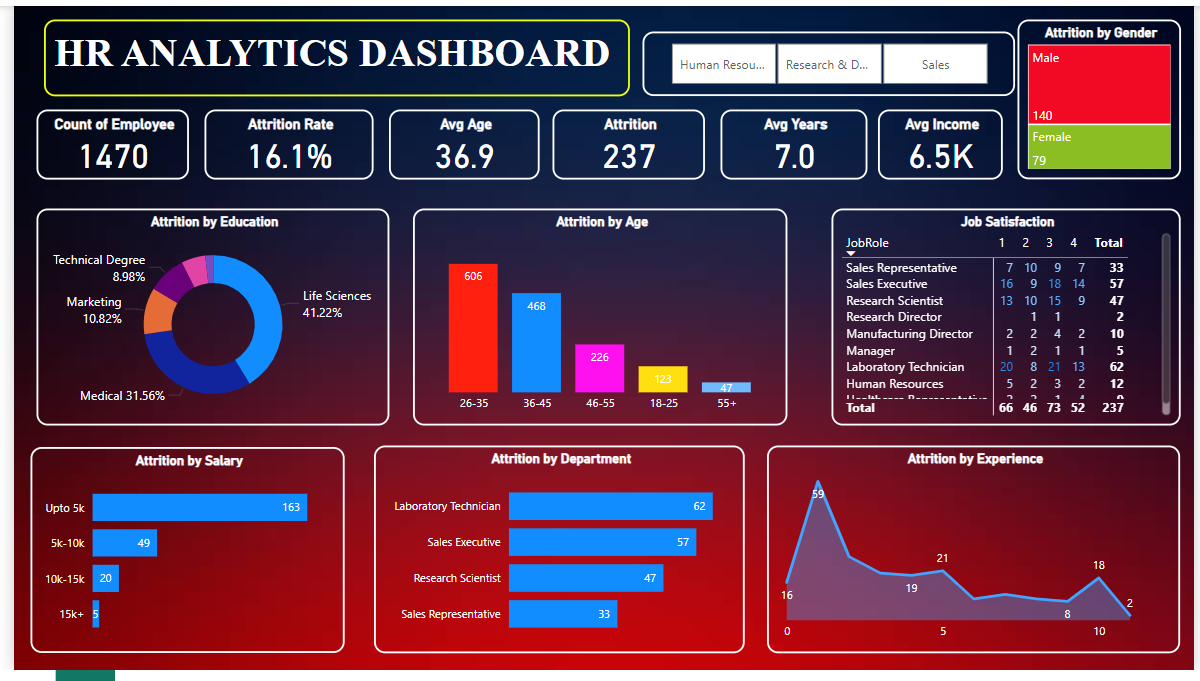

Layout of this report page (visuals, bound fields, positions):
{"tool":"powerbi","page":{"name":"Page 1","canvas":[1280,720],"ordinal":0},"visuals":[{"type":"card","title":"Attrition Rate","fields":{"Values":["HR_Analytics.Measure"]},"box":[207.1,111.5,183.2,75.7],"z":0},{"type":"card","title":"Count of Employee","fields":{"Values":["CountNonNull(HR_Analytics.EmpID)"]},"box":[23.9,111.5,165.3,75.7],"z":1000},{"type":"card","title":"Attrition","fields":{"Values":["CountNonNull(HR_Analytics.Attrision)"]},"box":[583.6,111.5,165.3,75.7],"z":2000},{"type":"card","title":"Avg Age","fields":{"Values":["Avg(HR_Analytics.Age)"]},"box":[406.3,111.5,163.3,75.7],"z":3000},{"type":"card","title":"Avg Years","fields":{"Values":["Avg(HR_Analytics.YearsAtCompany)"]},"box":[766.8,111.5,159.3,75.7],"z":4000},{"type":"card","title":"Avg Income","fields":{"Values":["Avg(HR_Analytics.MonthlyIncome)"]},"box":[936.1,111.5,135.4,75.7],"z":5000},{"type":"donutChart","title":"Attrition by Education","fields":{"Y":["CountNonNull(HR_Analytics.Attrition)"],"Category":["HR_Analytics.EducationField"]},"box":[23.9,219.1,382.4,235],"z":6000},{"type":"columnChart","title":"Attrition by Age","fields":{"Category":["HR_Analytics.AgeGroup"],"Y":["CountNonNull(HR_Analytics.Attrition)"]},"box":[432.2,219.1,406.3,235],"z":7000},{"type":"pivotTable","title":"Job Satisfaction","fields":{"Rows":["HR_Analytics.JobRole"],"Columns":["HR_Analytics.JobSatisfaction"],"Values":["Sum(HR_Analytics.Attrision)"]},"box":[886.3,219.1,378.4,235],"z":8000},{"type":"barChart","title":"Attrition by Salary","fields":{"Category":["HR_Analytics.SalarySlab"],"Y":["Sum(HR_Analytics.Attrision)"]},"box":[17.9,478,340.6,223.1],"z":9000},{"type":"barChart","title":"Attrition by Department","fields":{"Y":["Sum(HR_Analytics.Attrision)"],"Category":["HR_Analytics.JobRole"]},"box":[390.4,476,402.3,225.1],"z":10000},{"type":"areaChart","title":"Attrition by Experience","fields":{"Category":["HR_Analytics.YearsAtCompany"],"Y":["Sum(HR_Analytics.Attrision)"]},"box":[816.6,476,448.1,225.1],"z":11000},{"type":"treemap","title":"Attrition by Gender","fields":{"Group":["HR_Analytics.Gender"],"Values":["Sum(HR_Analytics.Attrision)"]},"box":[1087.5,13.9,177.3,173.3],"z":12000},{"type":"slicer","fields":{"Values":["HR_Analytics.Department"]},"box":[681.2,27.9,404.3,69.7],"z":13000},{"type":"textbox","box":[31.9,13.9,635.4,83.7],"z":14000}]}

Visuals, with their boxes in screenshot pixels (x1, y1, x2, y2), scaled from the page's 1280x720 canvas onto the 1200x681 screenshot:
"Attrition Rate" card: detection(194, 105, 366, 177)
"Count of Employee" card: detection(22, 105, 177, 177)
"Attrition" card: detection(547, 105, 702, 177)
"Avg Age" card: detection(381, 105, 534, 177)
"Avg Years" card: detection(719, 105, 868, 177)
"Avg Income" card: detection(878, 105, 1005, 177)
"Attrition by Education" donutChart: detection(22, 207, 381, 430)
"Attrition by Age" columnChart: detection(405, 207, 786, 430)
"Job Satisfaction" pivotTable: detection(831, 207, 1186, 430)
"Attrition by Salary" barChart: detection(17, 452, 336, 663)
"Attrition by Department" barChart: detection(366, 450, 743, 663)
"Attrition by Experience" areaChart: detection(766, 450, 1186, 663)
"Attrition by Gender" treemap: detection(1020, 13, 1186, 177)
slicer - HR_Analytics.Department: detection(639, 26, 1018, 92)
textbox: detection(30, 13, 626, 92)
